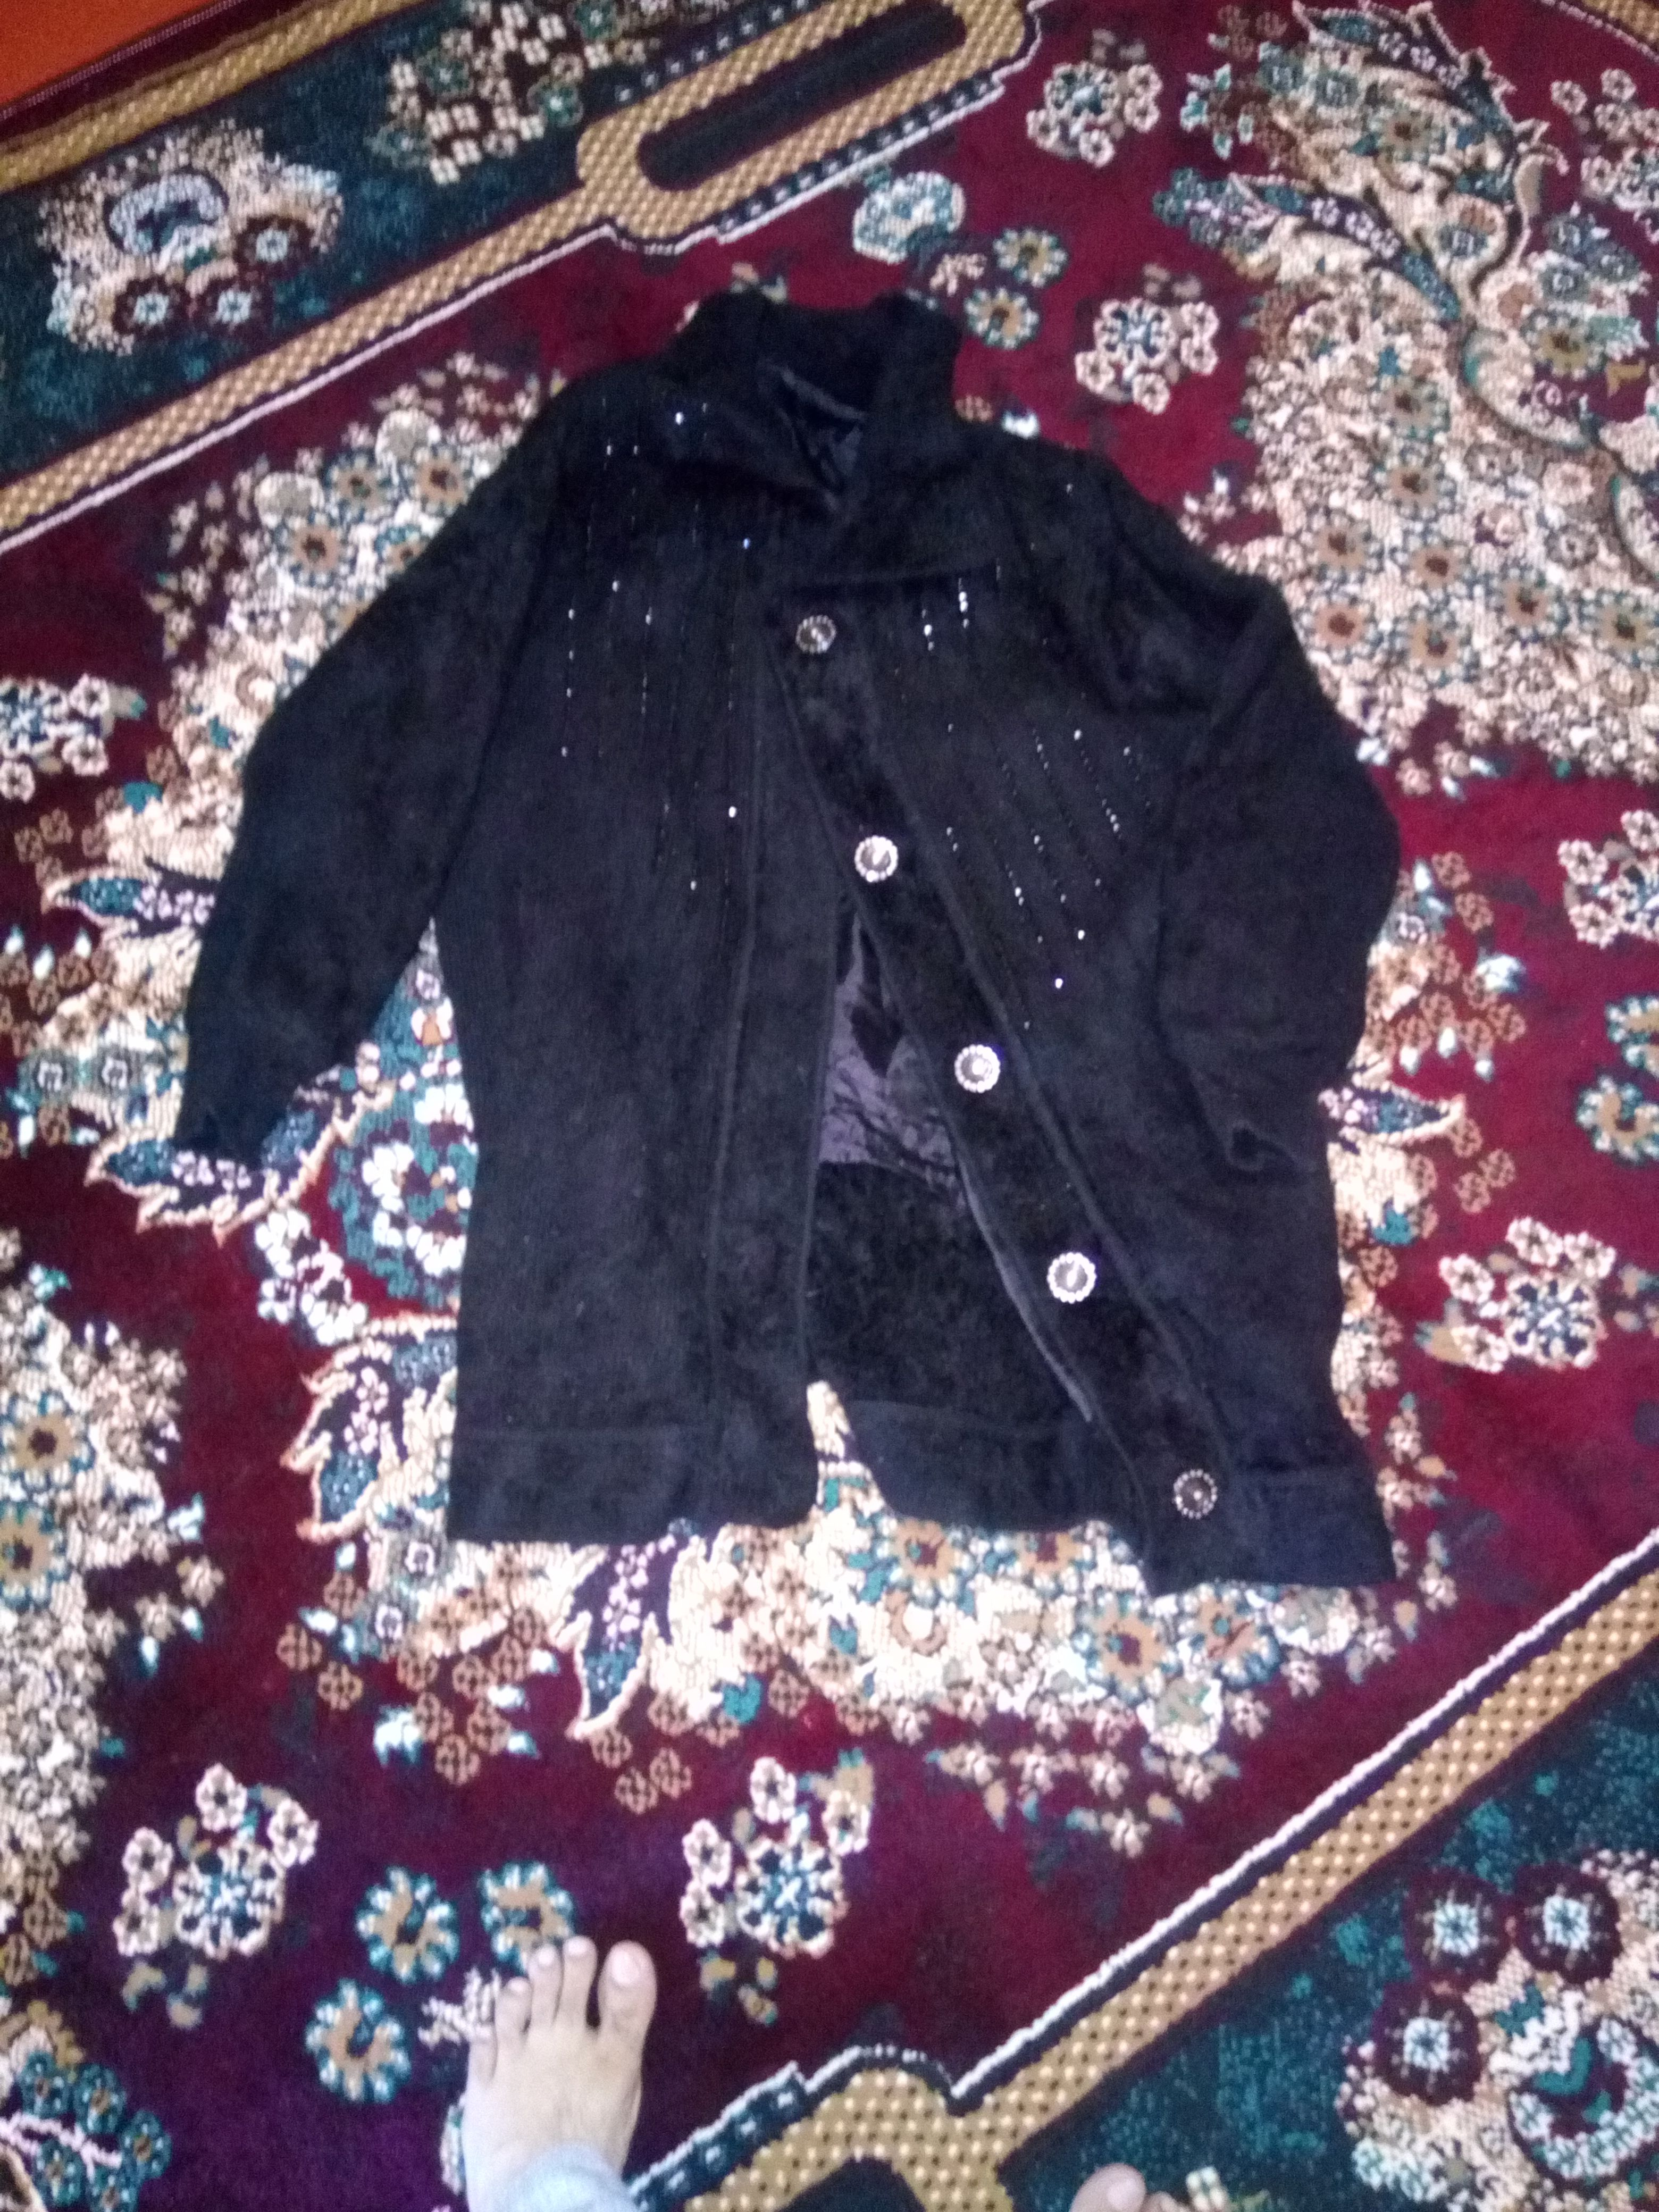clothes: (139, 282, 1439, 1606)
